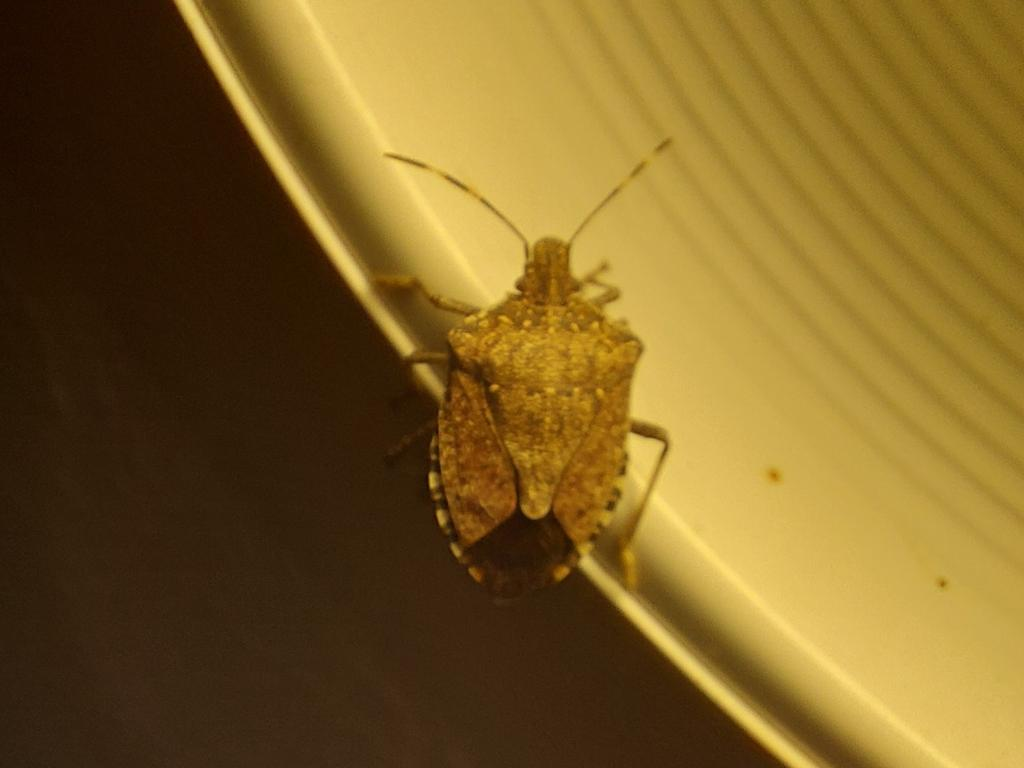stink_bugs: (316, 96, 761, 661)
